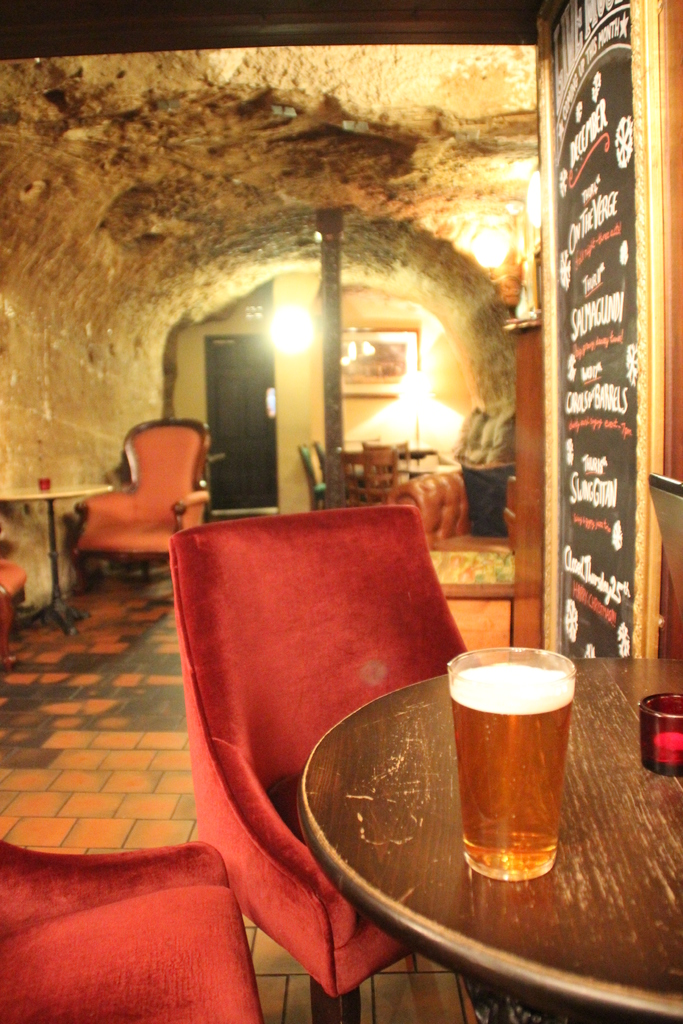Beer: (440, 657, 583, 878)
